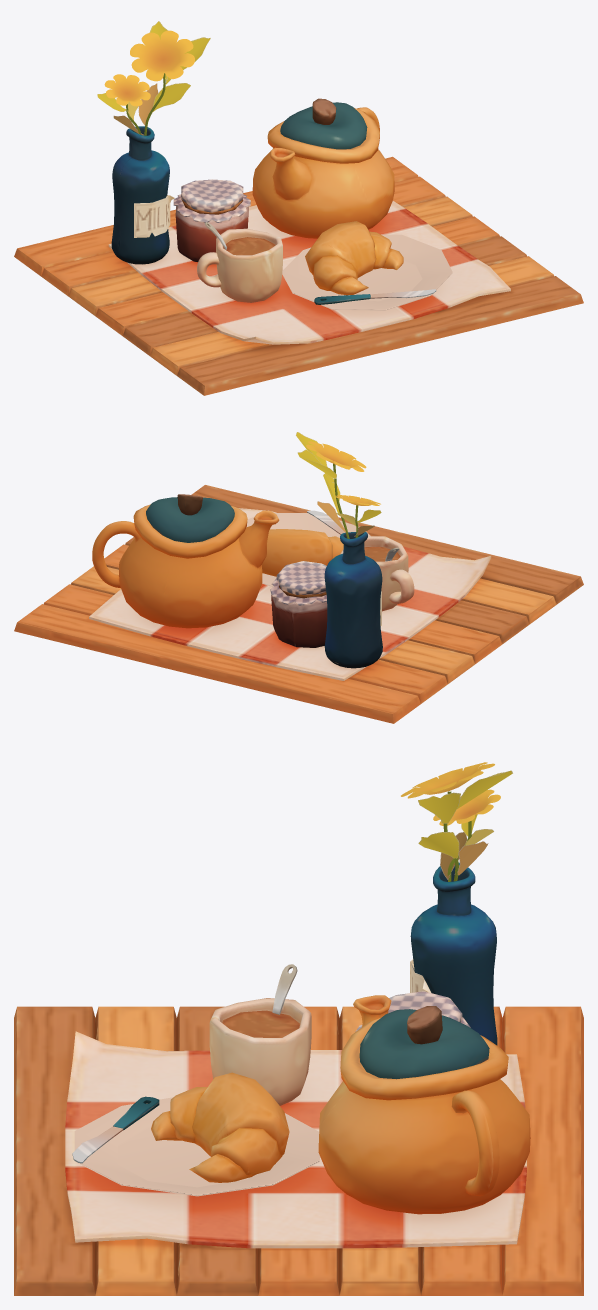
The model's file is picnic.glb.
3 renders of one model, top to bottom at view 1: azimuth 30°, elevation 25°; view 2: azimuth 150°, elevation 25°; view 3: azimuth 270°, elevation 25°, orthographic. The views are drawn at different scales.
Parts seen in each view (by area): view 1: breakfast_picnic; view 2: breakfast_picnic; view 3: breakfast_picnic.
Part boxes in pixels (bbox=[...]): breakfast_picnic: bbox=[14, 21, 583, 395]; breakfast_picnic: bbox=[14, 432, 583, 723]; breakfast_picnic: bbox=[14, 762, 583, 1295].
Bounding box in the file's own units: 0.2176 × 0.1269 × 0.1886.
Materials: 1 (1 with a texture image).
